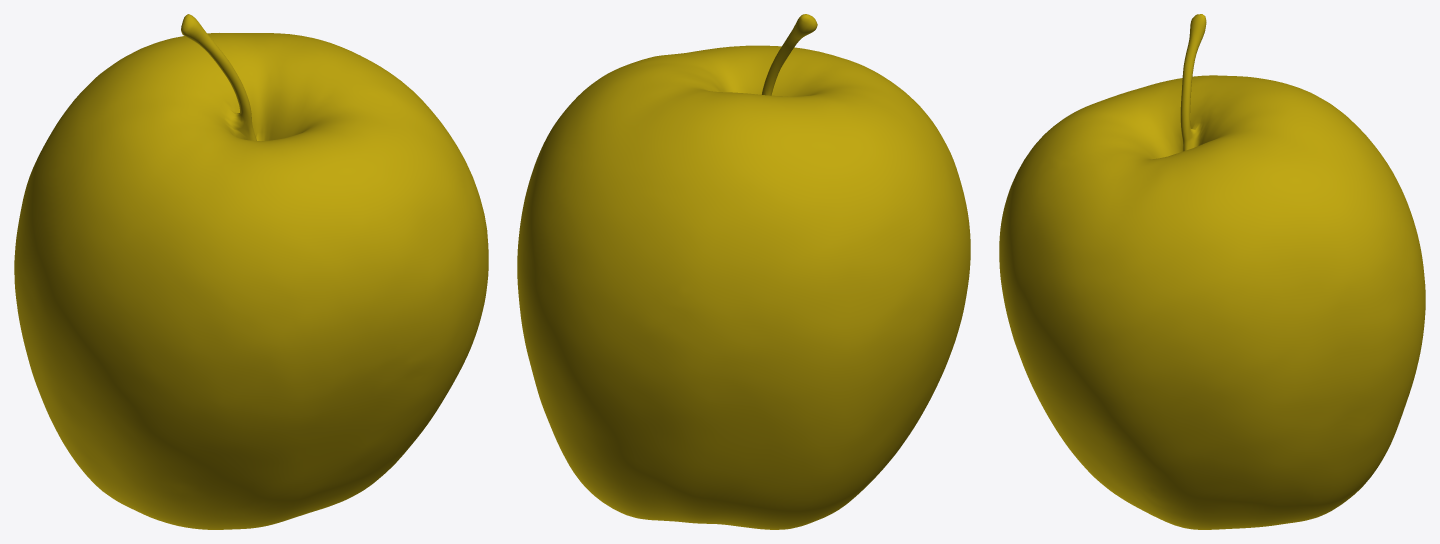
The model's file is wukong-apple-celestial-original.glb.
3 renders of one model, left to right at view 1: azimuth 30°, elevation 25°; view 2: azimuth 150°, elevation 25°; view 3: azimuth 270°, elevation 25°, orthographic. The views are drawn at different scales.
Parts seen in each view (by area): view 1: Apple Scanned; view 2: Apple Scanned; view 3: Apple Scanned.
Boxes of the visible parts, <box> form: Apple Scanned: <box>14,14,488,529</box>; Apple Scanned: <box>517,14,970,529</box>; Apple Scanned: <box>999,14,1425,529</box>.
Size of the model in its own units: 0.0827 by 0.0977 by 0.0838.
